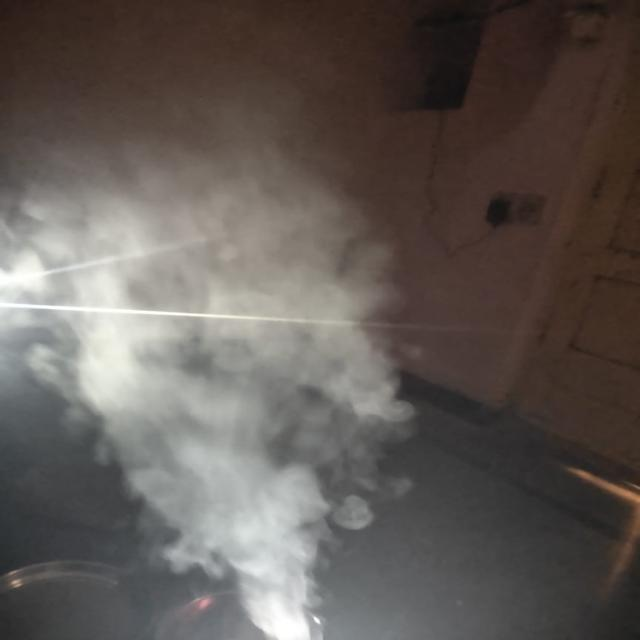smoke: (48, 180, 269, 496)
